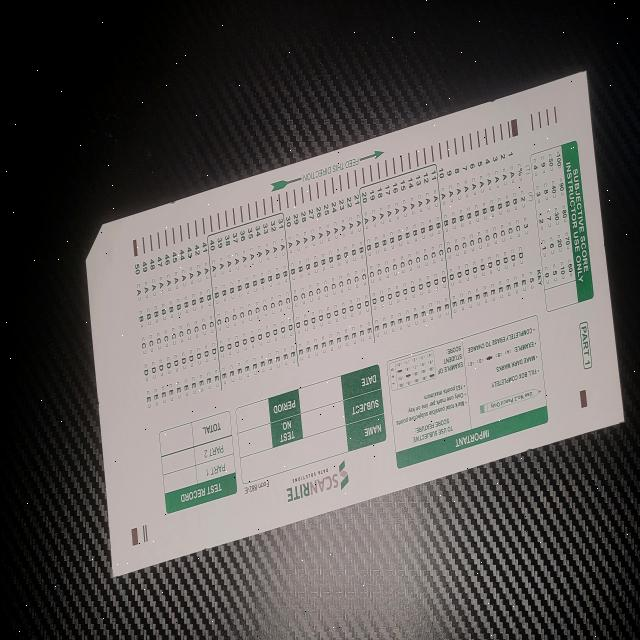scantron: (84, 70, 623, 580)
